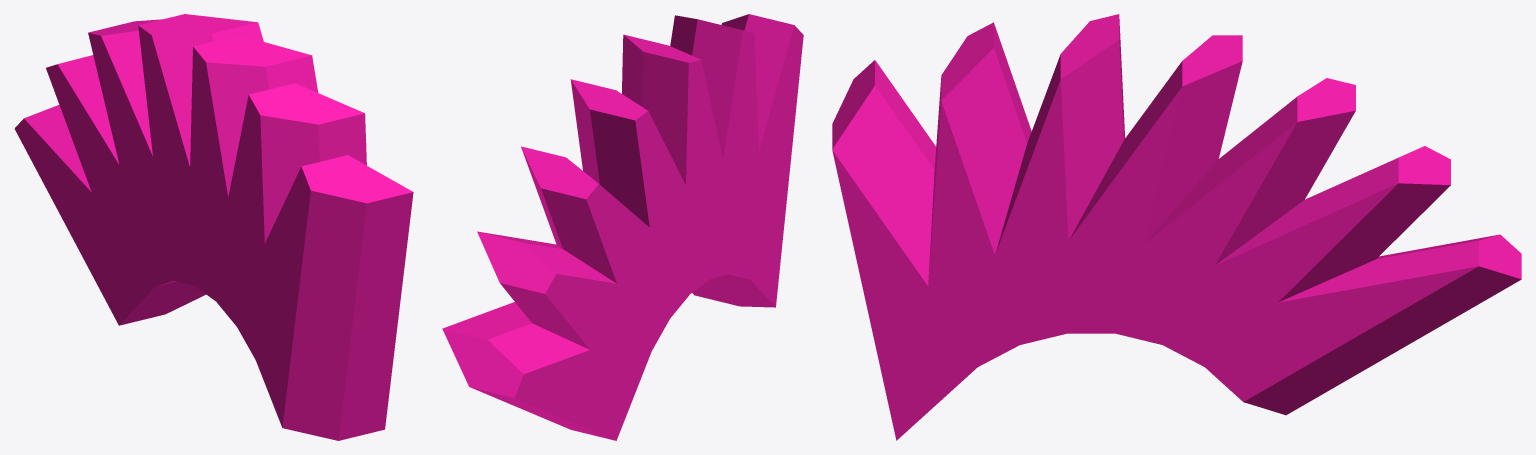
The model's file is Mohawk.fbx.
3 views of the same model, side by side, from view 1: azimuth 30°, elevation 25°; view 2: azimuth 150°, elevation 25°; view 3: azimuth 270°, elevation 25° (orthographic). The views are drawn at different scales.
Parts seen in each view (by area): view 1: mergedBlocks; view 2: mergedBlocks; view 3: mergedBlocks.
Boxes of the visible parts, x1,y1,x2,y2 form: mergedBlocks: (14,14,413,440); mergedBlocks: (442,14,803,440); mergedBlocks: (832,14,1521,440).
Bounding box in the file's own units: 2 × 6.84 × 11.38.
